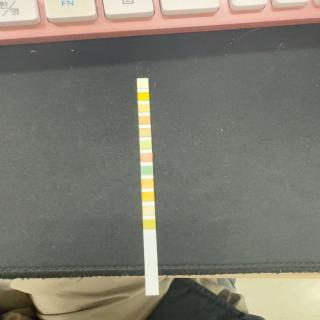mark: (143, 219, 155, 229), (142, 206, 154, 216), (141, 178, 153, 188), (141, 165, 152, 175), (142, 192, 154, 201), (140, 128, 152, 137), (138, 116, 150, 125), (140, 154, 152, 162), (140, 140, 152, 148), (138, 104, 150, 112), (137, 92, 149, 100), (137, 80, 149, 88)
